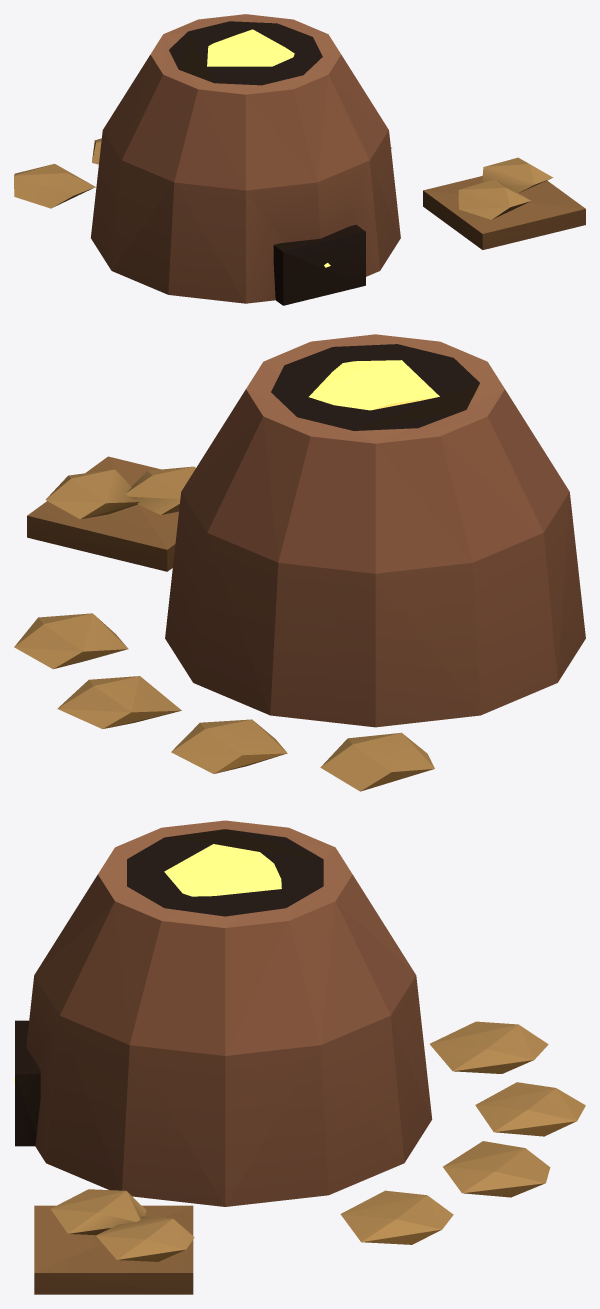
The model's file is oven.glb.
3 views of the same model, one above another, from view 1: azimuth 30°, elevation 25°; view 2: azimuth 150°, elevation 25°; view 3: azimuth 270°, elevation 25° (orthographic). The views are drawn at different scales.
Visible parts, largest first — view 1: base, flame_m; view 2: base, flame_m; view 3: base, flame_m.
Boxes of the visible parts, x1,y1,x2,y2 form: base: (14,14,585,305); flame_m: (207,29,330,267); base: (14,334,585,791); flame_m: (309,360,439,410); base: (15,820,585,1294); flame_m: (14,844,281,1083).
Size of the model in its own units: 0.3933 by 0.1777 by 0.3593.
